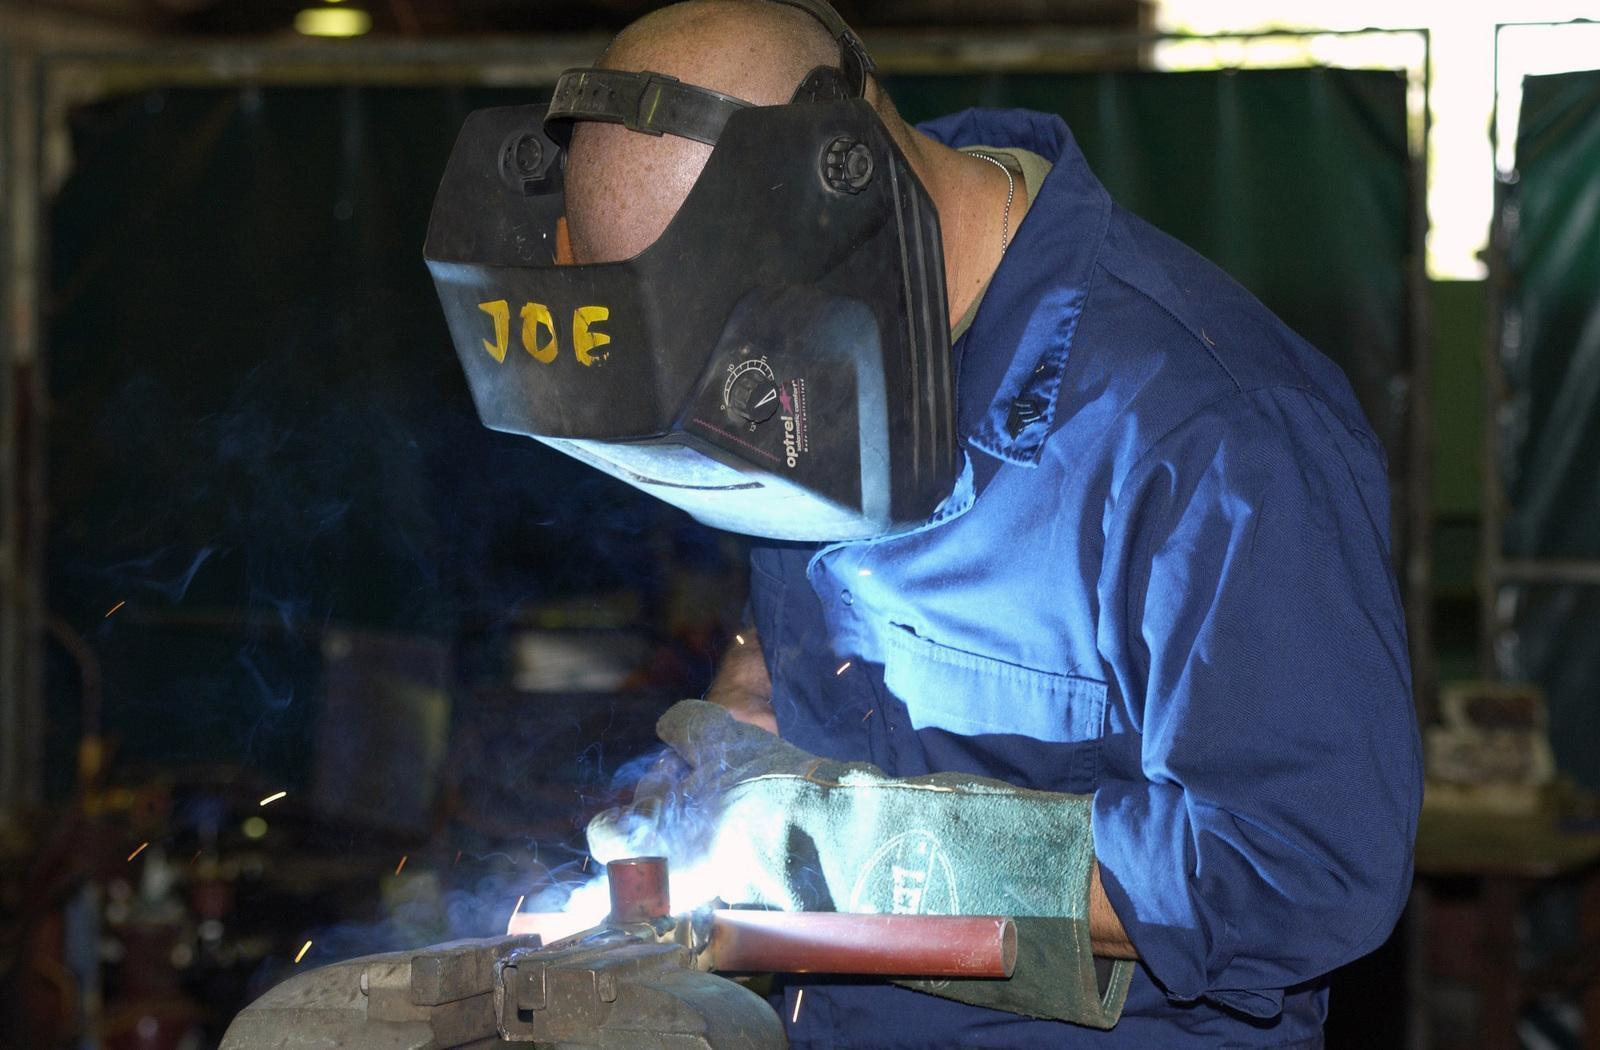Ear-protection: (416, 0, 1422, 1023)
